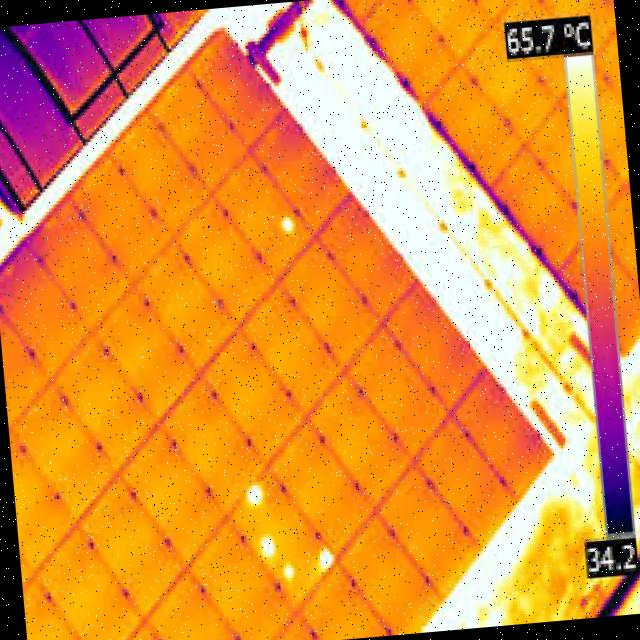Hotspot: (314, 548, 338, 576), (255, 532, 278, 560), (243, 481, 266, 508), (274, 210, 296, 238), (280, 558, 297, 582)
